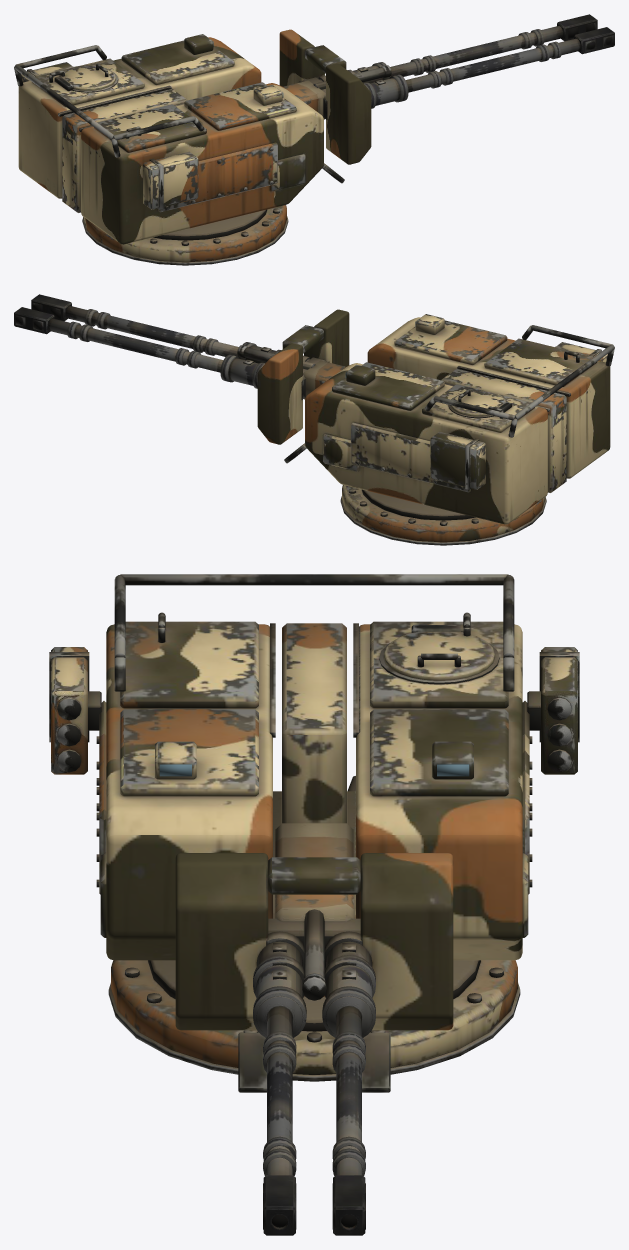
The model's file is turret_kit_t2.glb.
The picture shows the model from 3 angles, top to bottom: view 1: azimuth 30°, elevation 25°; view 2: azimuth 150°, elevation 25°; view 3: azimuth 270°, elevation 25°; orthographic projection. The views are drawn at different scales.
Visible parts, largest first — view 1: turret_twin_t2, guns, pods; view 2: turret_twin_t2, guns, pods; view 3: turret_twin_t2, guns, pods.
Part boxes in pixels (left/top/right/bottom): turret_twin_t2: left=14, top=29, right=371, bottom=265; guns: left=283, top=14, right=614, bottom=119; pods: left=21, top=62, right=198, bottom=209; turret_twin_t2: left=257, top=309, right=614, bottom=545; guns: left=14, top=294, right=345, bottom=399; pods: left=430, top=342, right=607, bottom=489; turret_twin_t2: left=96, top=574, right=532, bottom=1092; guns: left=253, top=823, right=375, bottom=1235; pods: left=49, top=647, right=579, bottom=774.
Size of the model in its own units: 2.7 by 0.722 by 1.15.
4 materials, 3 textured.
